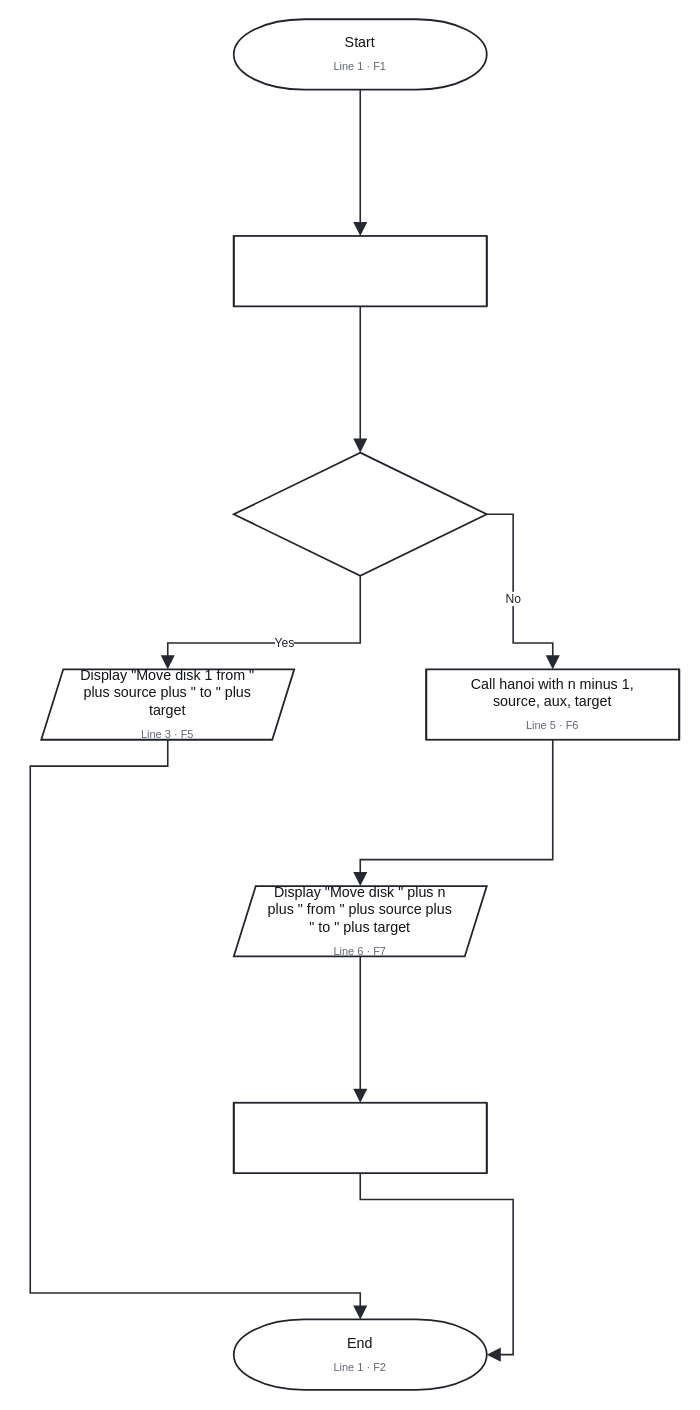
Some shapes in this 700 by 1410 pixel diagram are drawn without their labels. The shapes that lost their labels are listed below. From the top down, each one's centre as x and y in pixels, then its label:
At point (359, 271): "Run function hanoi with n, source, target, aux Line 1 · F3".
At point (359, 513): "N is equal to 1? Line 2 · F4".
At point (359, 1137): "Call hanoi with n minus 1, aux, target, source Line 7 · F8".
